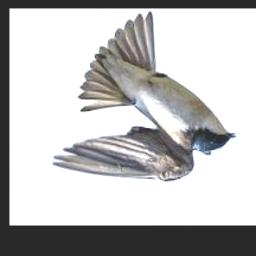Swallow: (52, 13, 236, 181)
